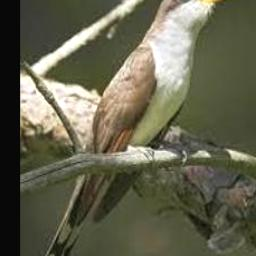Cuckoo: (31, 0, 236, 256)
